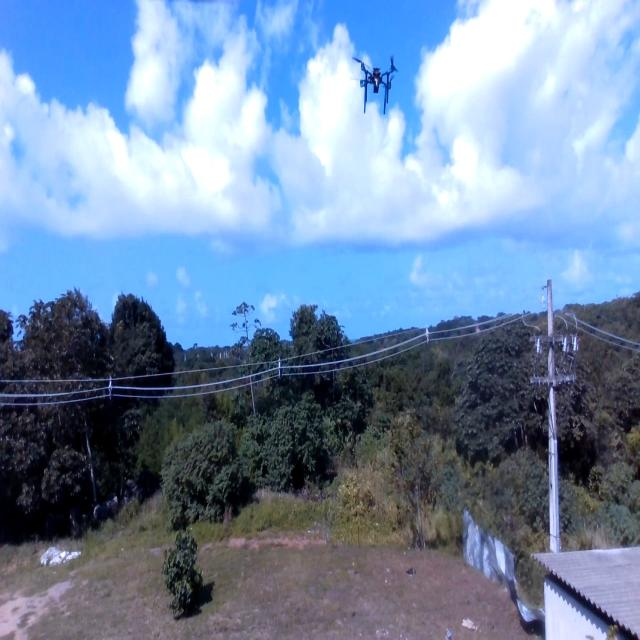-uav-: (349, 44, 408, 140)
